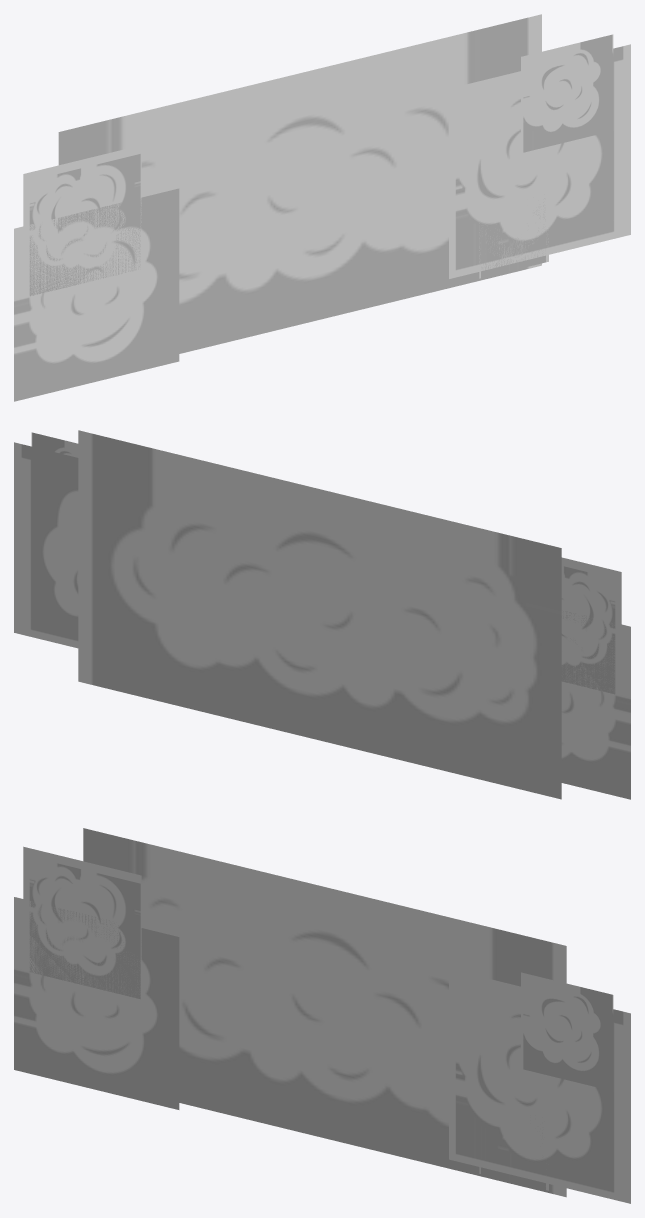
Rendered from puff_box_big.glb.
3 renders of one model, top to bottom at view 1: azimuth 30°, elevation 25°; view 2: azimuth 150°, elevation 25°; view 3: azimuth 330°, elevation 25°, orthographic.
Parts seen in each view (by area): view 1: puff7, puff3, puff5, puff2, puff1, puff4; view 2: puff7, puff5, puff3, puff2, puff1; view 3: puff7, puff5, puff3, puff2, puff1, puff4.
Part boxes in pixels (left/top/right/bottom): puff7: left=58, top=14, right=541, bottom=353; puff3: left=14, top=188, right=179, bottom=401; puff5: left=449, top=44, right=630, bottom=278; puff2: left=23, top=145, right=141, bottom=297; puff1: left=521, top=34, right=613, bottom=153; puff4: left=479, top=198, right=548, bottom=278; puff7: left=78, top=430, right=561, bottom=799; puff5: left=14, top=442, right=78, bottom=648; puff3: left=561, top=611, right=630, bottom=799; puff2: left=561, top=557, right=621, bottom=695; puff1: left=31, top=432, right=78, bottom=457; puff7: left=83, top=828, right=566, bottom=1197; puff5: left=449, top=969, right=630, bottom=1203; puff3: left=14, top=897, right=179, bottom=1109; puff2: left=23, top=846, right=141, bottom=999; puff1: left=521, top=972, right=613, bottom=1091; puff4: left=479, top=1129, right=548, bottom=1190.
Size of the model in its own units: 141 by 54.98 by 4.88.
Materials: 1 (1 with a texture image).
